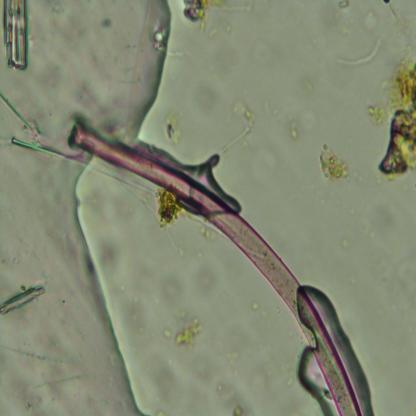Air bubble: (66, 151, 142, 416), (123, 0, 172, 144), (295, 349, 331, 408)
Background material: (368, 50, 416, 183), (178, 0, 252, 35), (90, 225, 128, 286), (361, 249, 416, 288), (119, 295, 156, 346), (160, 316, 209, 352), (315, 139, 353, 185), (0, 281, 46, 317), (151, 186, 180, 231), (160, 112, 188, 148), (250, 364, 272, 401), (232, 100, 258, 131), (360, 7, 378, 33), (285, 115, 299, 140), (336, 0, 354, 17), (233, 404, 249, 416), (248, 300, 261, 314), (381, 0, 393, 6)
Diatom: (2, 0, 30, 75)
Glass filter fibre: (11, 135, 86, 166), (337, 34, 385, 67), (219, 124, 248, 154)
Microfibre: (68, 113, 372, 415)
